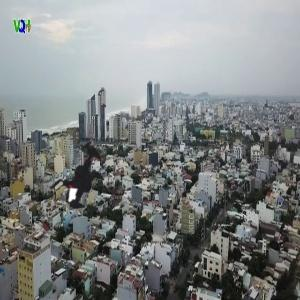drone: (25, 122, 131, 228)
